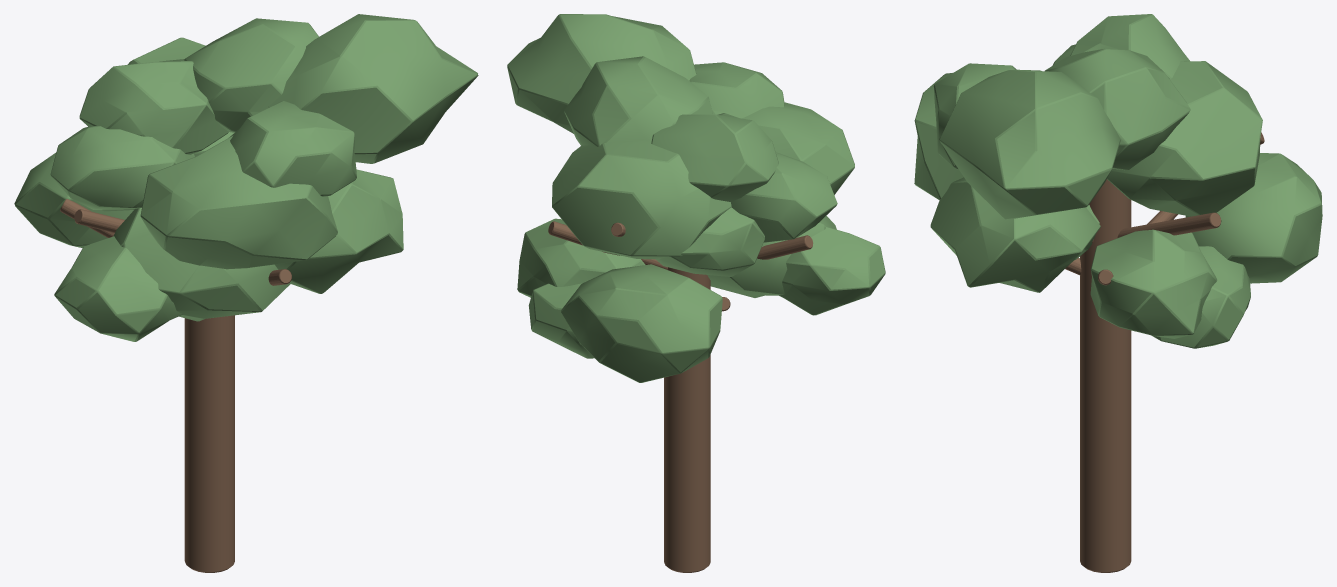
Rendered from tree_broadleaf_01.glb.
The picture shows the model from 3 angles, left to right: view 1: azimuth 30°, elevation 25°; view 2: azimuth 150°, elevation 25°; view 3: azimuth 270°, elevation 25°; orthographic projection. The views are drawn at different scales.
Visible parts, largest first — view 1: Canopy_Mesh, Trunk_Mesh; view 2: Canopy_Mesh, Trunk_Mesh; view 3: Canopy_Mesh, Trunk_Mesh.
Part boxes in pixels (x1=…): Canopy_Mesh: x1=14, y1=14, x2=478, y2=341; Trunk_Mesh: x1=60, y1=199, x2=291, y2=572; Canopy_Mesh: x1=507, y1=14, x2=885, y2=382; Trunk_Mesh: x1=548, y1=221, x2=813, y2=572; Canopy_Mesh: x1=914, y1=14, x2=1322, y2=348; Trunk_Mesh: x1=1065, y1=132, x2=1264, y2=572.
Size of the model in its own units: 6.93 by 8.98 by 6.01.
